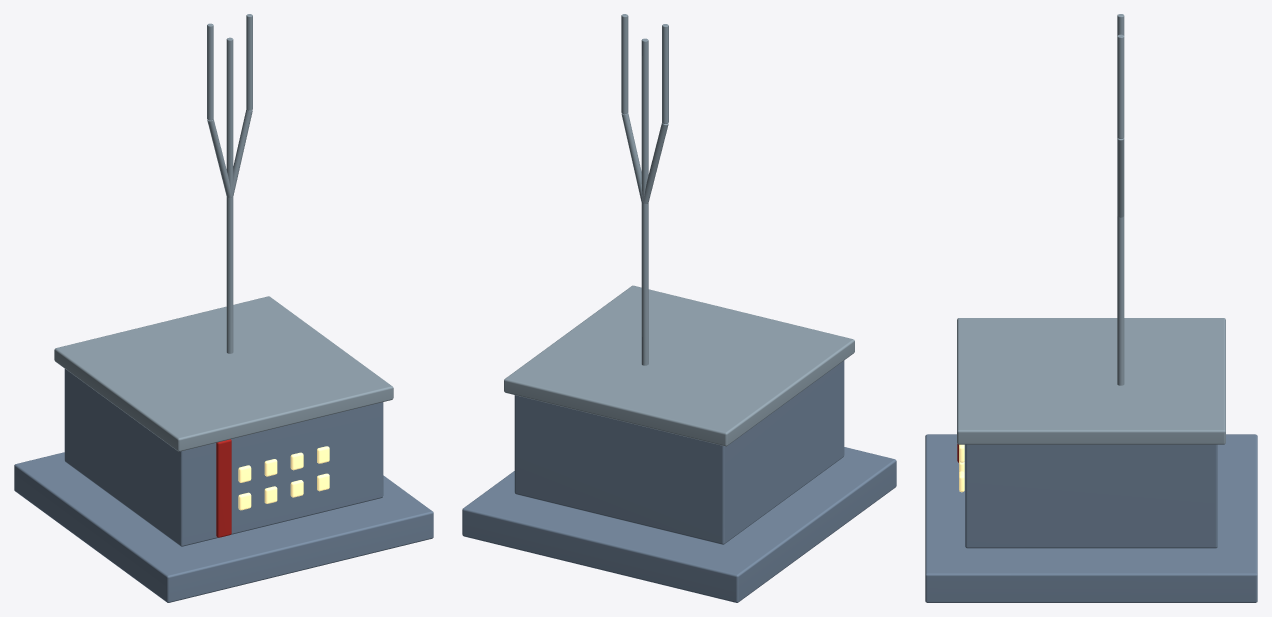
3 views of the same model, side by side, from view 1: azimuth 30°, elevation 25°; view 2: azimuth 150°, elevation 25°; view 3: azimuth 270°, elevation 25° (orthographic). The views are drawn at different scales.
Visible parts, largest first — view 1: Block roof ledge, Modular block storey, Foundation slab, Aerial stem, Vertical block colour strip, Aerial fork tine, Aerial fork tine.001, Aerial fork, Aerial fork.001; view 2: Modular block storey, Block roof ledge, Foundation slab, Aerial stem, Aerial fork tine.001, Aerial fork tine, Aerial fork, Aerial fork.001; view 3: Block roof ledge, Foundation slab, Modular block storey, Aerial stem, Aerial fork tine.001, Aerial fork.001.
Boxes of the visible parts, x1,y1,x2,y2 form: Block roof ledge: (54,296,393,451); Modular block storey: (64,369,383,546); Foundation slab: (14,452,433,602); Aerial stem: (226,37,233,353); Vertical block colour strip: (216,439,231,537); Aerial fork tine: (207,23,213,120); Aerial fork tine.001: (246,14,252,110); Aerial fork: (207,119,231,197); Aerial fork.001: (231,109,252,196); Modular block storey: (514,360,844,544); Block roof ledge: (504,285,854,446); Foundation slab: (462,447,896,602); Aerial stem: (641,38,648,365); Aerial fork tine.001: (621,14,628,114); Aerial fork tine: (662,24,668,123); Aerial fork: (643,123,668,203); Aerial fork.001: (621,113,643,203); Block roof ledge: (957,318,1225,444); Foundation slab: (925,434,1257,602); Modular block storey: (965,444,1217,548); Aerial stem: (1117,216,1124,385); Aerial fork tine.001: (1117,34,1124,138); Aerial fork.001: (1117,138,1124,217).
Bounding box in the file's own units: 2.04 × 3.51 × 2.04.
